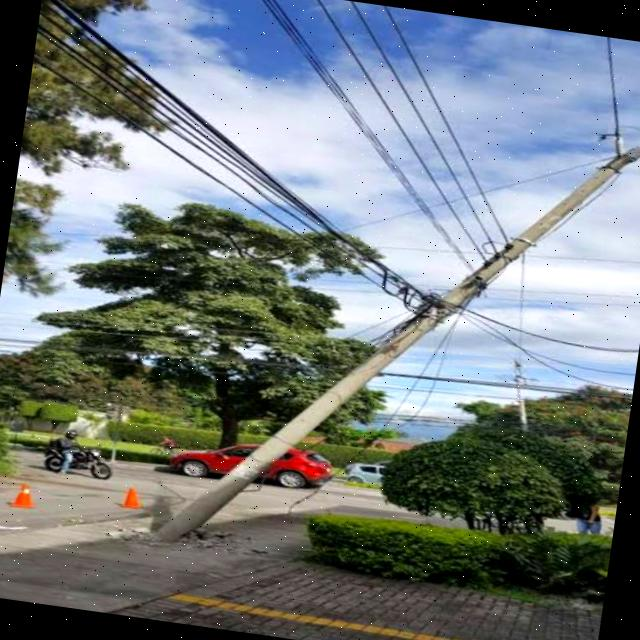Broken Pole: (154, 146, 640, 538)
